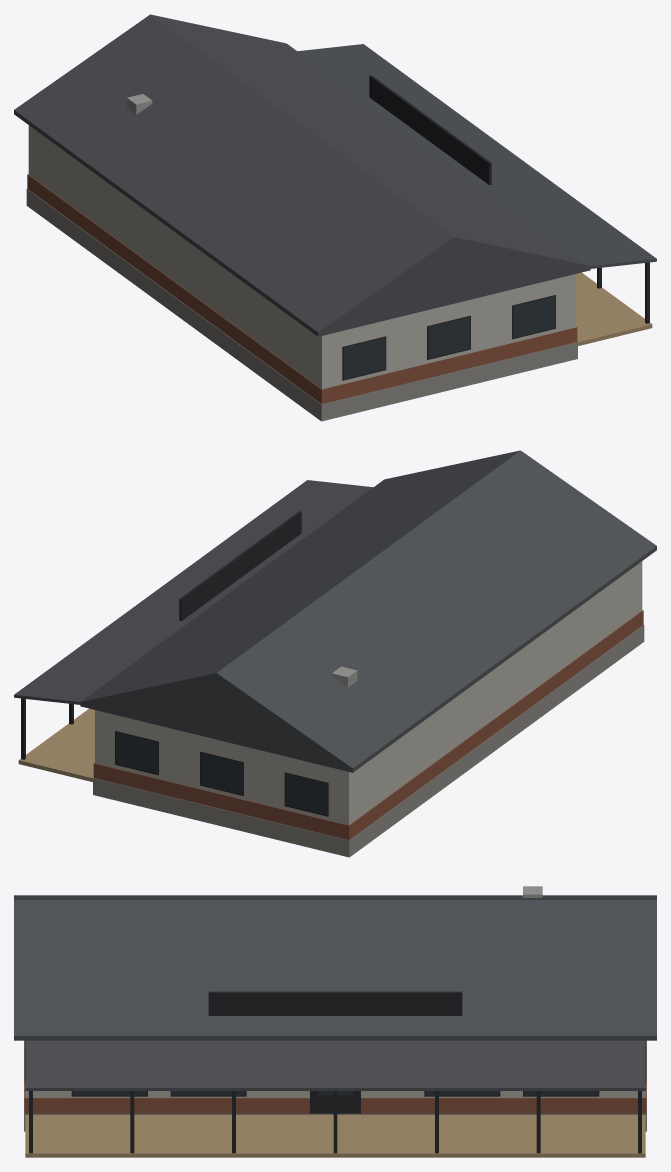
File: SM_Prop_cafe_building_15_LOD1.glb
The picture shows the model from 3 angles, top to bottom: view 1: azimuth 30°, elevation 25°; view 2: azimuth 150°, elevation 25°; view 3: azimuth 270°, elevation 25°; orthographic projection. The views are drawn at different scales.
Visible parts, largest first — view 1: SM_Prop_cafe_building_15_LOD1; view 2: SM_Prop_cafe_building_15_LOD1; view 3: SM_Prop_cafe_building_15_LOD1.
Boxes of the visible parts, x1,y1,x2,y2 form: SM_Prop_cafe_building_15_LOD1: [14, 14, 656, 421]; SM_Prop_cafe_building_15_LOD1: [14, 450, 656, 857]; SM_Prop_cafe_building_15_LOD1: [14, 886, 656, 1157].
Bounding box in the file's own units: 14.9 × 6.48 × 22.8.
